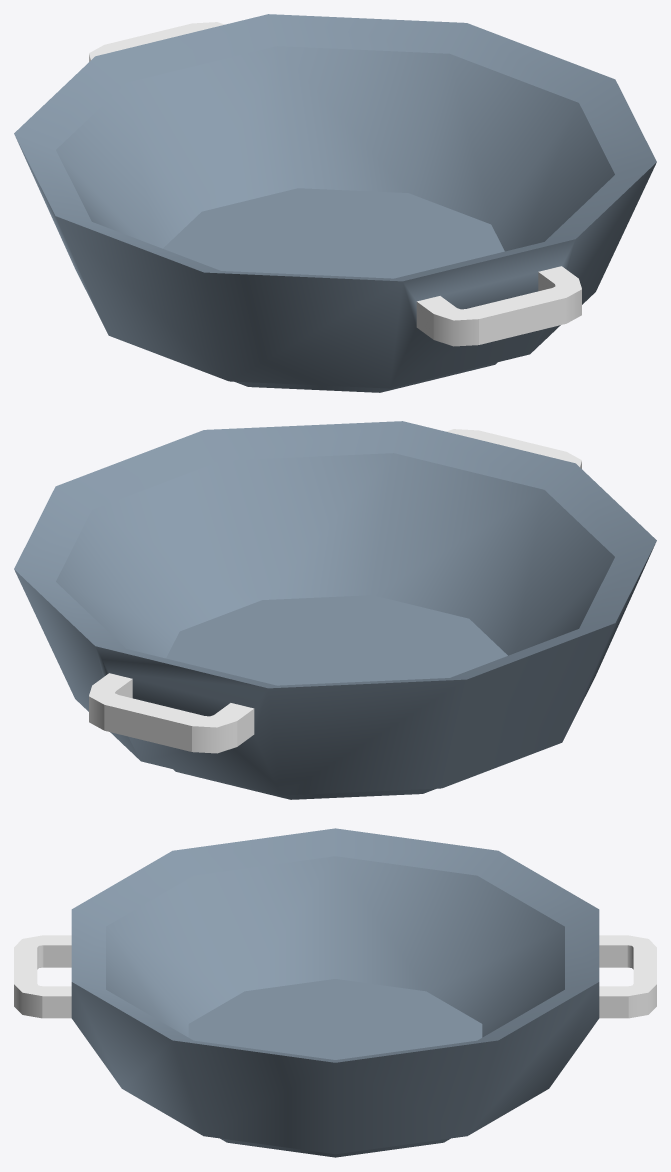
Rendered from pan.GLB.
3 renders of one model, top to bottom at view 1: azimuth 30°, elevation 25°; view 2: azimuth 150°, elevation 25°; view 3: azimuth 270°, elevation 25°, orthographic. The views are drawn at different scales.
Parts seen in each view (by area): view 1: pan; view 2: pan; view 3: pan.
Part boxes in pixels (x1=…): pan: x1=14, y1=14, x2=656, y2=392; pan: x1=14, y1=421, x2=656, y2=799; pan: x1=14, y1=828, x2=656, y2=1157.
Bounding box in the file's own units: 0.6574 × 0.1753 × 0.7621.
